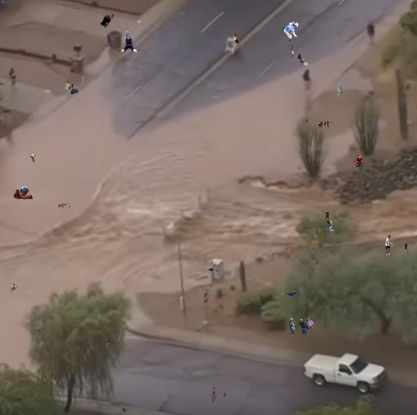Human: (385, 235, 408, 256), (118, 31, 140, 52), (289, 317, 314, 334), (9, 186, 34, 200), (282, 21, 299, 41), (100, 14, 117, 32), (210, 387, 228, 403), (366, 20, 376, 43), (8, 67, 17, 89), (353, 154, 366, 169), (325, 212, 334, 232), (65, 81, 78, 94), (296, 54, 309, 66), (318, 120, 333, 130), (332, 87, 342, 96), (282, 290, 297, 296), (10, 283, 18, 294), (57, 203, 71, 209), (232, 34, 240, 43), (290, 46, 295, 58), (30, 154, 36, 163), (120, 407, 126, 412), (208, 266, 213, 271), (306, 119, 314, 122), (44, 375, 47, 380), (82, 76, 84, 83), (108, 340, 110, 345)
